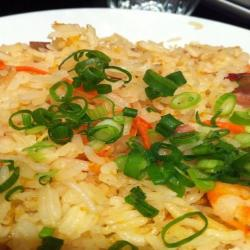rice: (8, 43, 243, 235)
